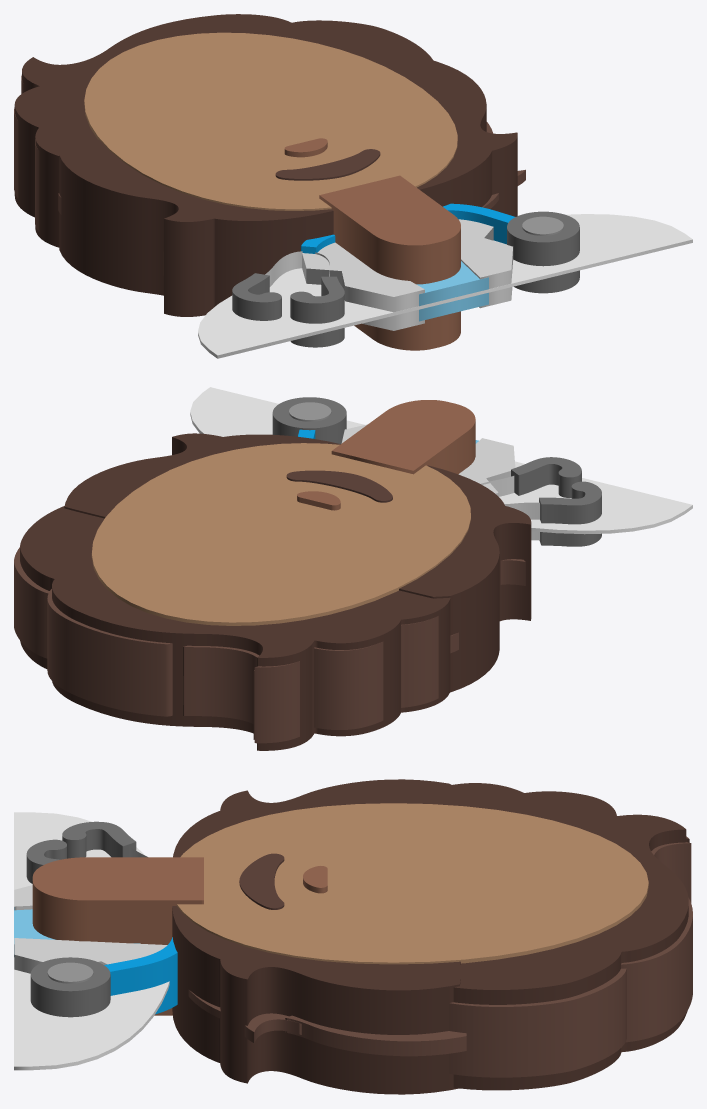
File: emoji_u1f9d1_1f3fd_200d_2695.glb
3 views of the same model, one above another, from view 1: azimuth 30°, elevation 25°; view 2: azimuth 150°, elevation 25°; view 3: azimuth 270°, elevation 25° (orthographic). The views are drawn at different scales.
Visible parts, largest first — view 1: emoji_u1f9d1_1f3fd_200d_2695; view 2: emoji_u1f9d1_1f3fd_200d_2695; view 3: emoji_u1f9d1_1f3fd_200d_2695.
Part boxes in pixels (left/top/right/bottom): emoji_u1f9d1_1f3fd_200d_2695: left=14, top=14, right=692, bottom=358; emoji_u1f9d1_1f3fd_200d_2695: left=14, top=387, right=692, bottom=750; emoji_u1f9d1_1f3fd_200d_2695: left=14, top=779, right=692, bottom=1094.
Bounding box in the file's own units: 0.0293 × 0.0064 × 0.0331.
